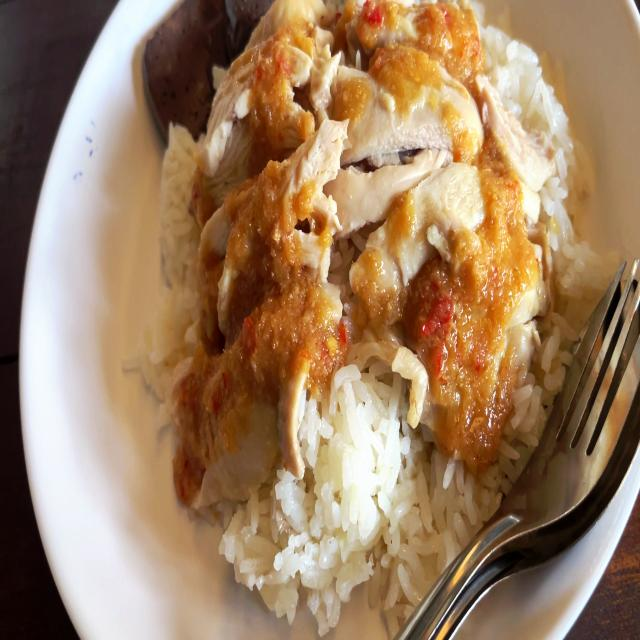boiled_chicken: (172, 23, 528, 454)
boiled_chicken_blood_jelly: (138, 0, 235, 127)
chicken_rice: (131, 0, 610, 620)
